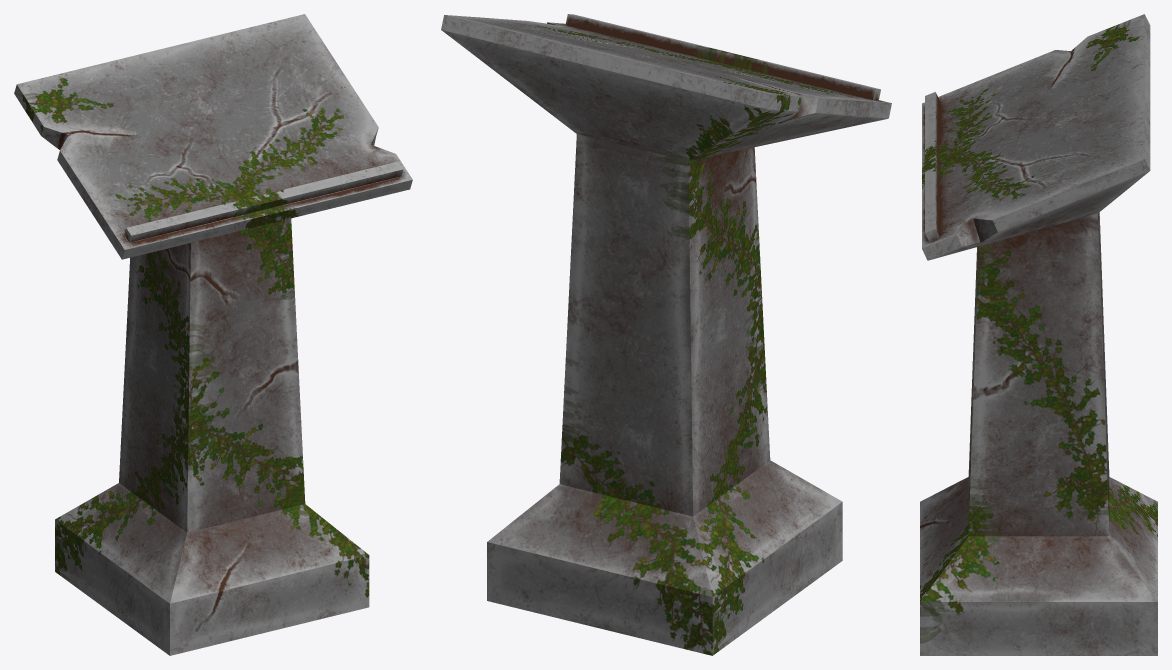
The model's file is alter.glb.
3 renders of one model, left to right at view 1: azimuth 30°, elevation 25°; view 2: azimuth 150°, elevation 25°; view 3: azimuth 270°, elevation 25°, orthographic. The views are drawn at different scales.
Parts seen in each view (by area): view 1: plank_low_altar_txtr_0; view 2: plank_low_altar_txtr_0; view 3: plank_low_altar_txtr_0.
Part boxes in pixels (box(x1,y1,x2,y2)): plank_low_altar_txtr_0: box(14, 14, 412, 655); plank_low_altar_txtr_0: box(441, 14, 891, 655); plank_low_altar_txtr_0: box(920, 14, 1157, 655).
Bounding box in the file's own units: 0.8689 × 1.45 × 0.6.
Materials: 1 (1 with a texture image).
